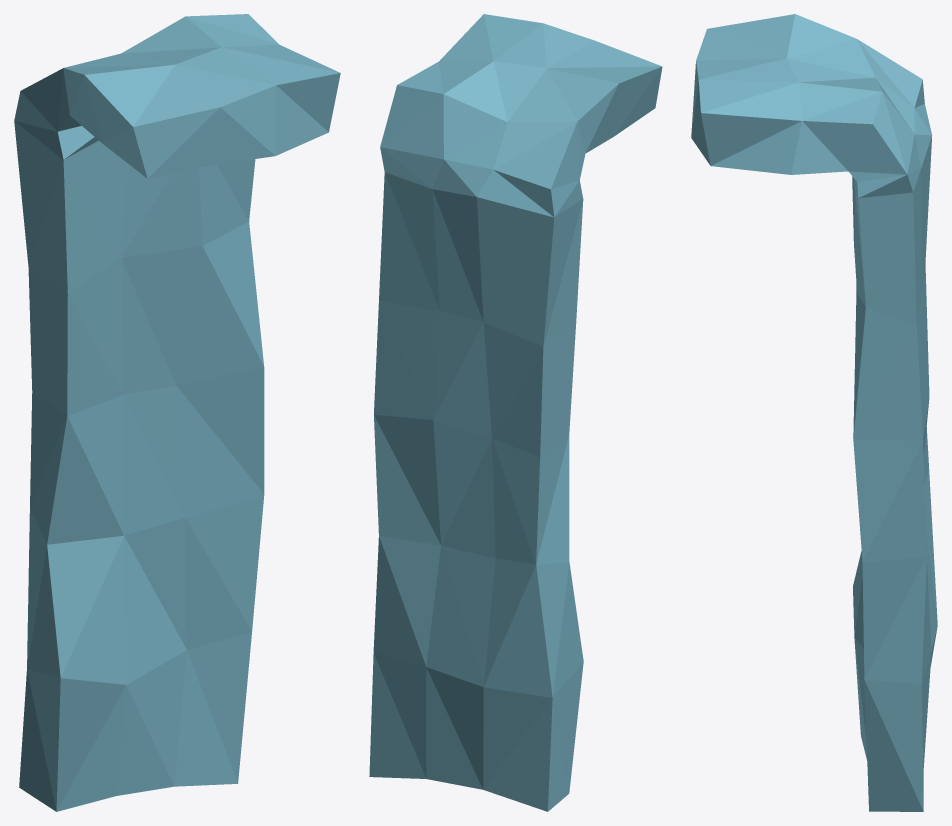
File: tofe's_lowPoly_waterfall01.fbx
The picture shows the model from 3 angles, left to right: view 1: azimuth 30°, elevation 25°; view 2: azimuth 150°, elevation 25°; view 3: azimuth 270°, elevation 25°; orthographic projection. The views are drawn at different scales.
Visible parts, largest first — view 1: tofe's_lowPoly_waterfall01; view 2: tofe's_lowPoly_waterfall01; view 3: tofe's_lowPoly_waterfall01.
Part boxes in pixels (x1,y1,x2,y2): tofe's_lowPoly_waterfall01: [14, 14, 340, 811]; tofe's_lowPoly_waterfall01: [369, 14, 662, 811]; tofe's_lowPoly_waterfall01: [691, 14, 937, 811].
Bounding box in the file's own units: 4.52 × 15.64 × 4.91.
